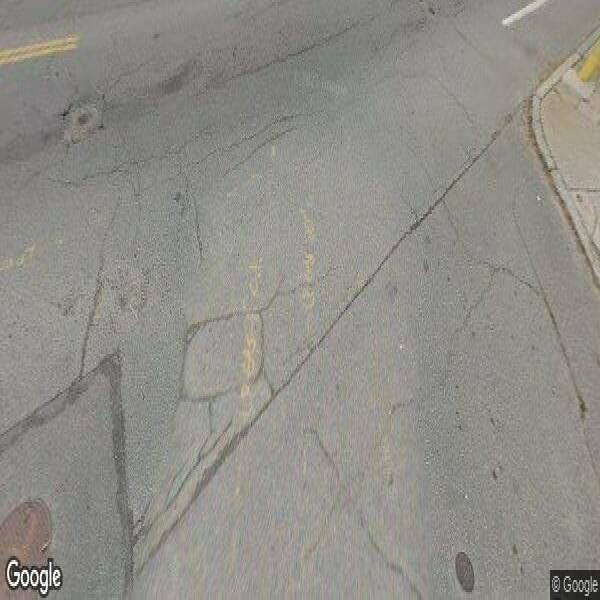manhole: (0, 496, 58, 598)
